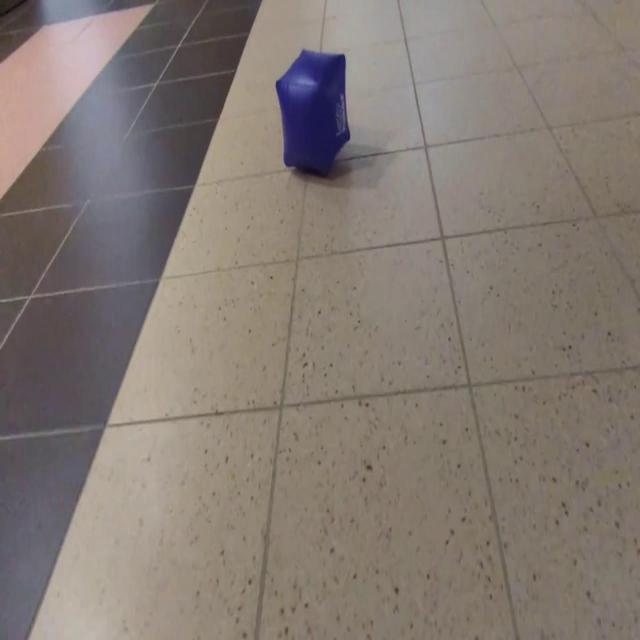frc_cube: (274, 48, 352, 177)
